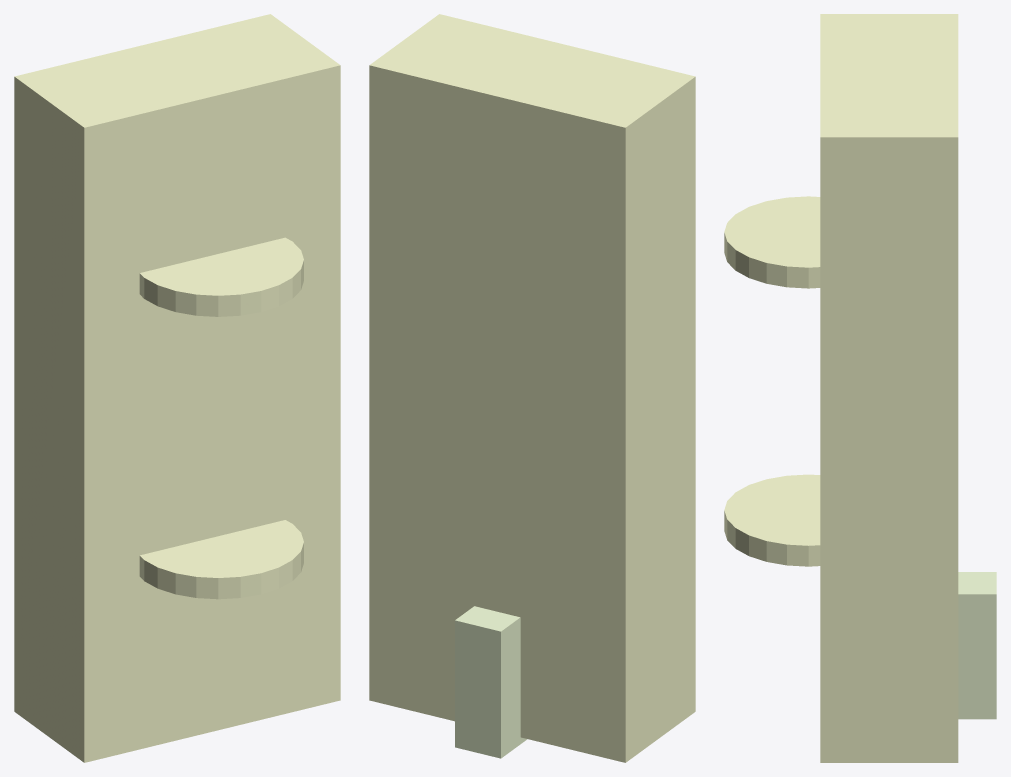
The model's file is signal_preemption_beacon_dual_lunar_vertical.glb.
3 views of the same model, side by side, from view 1: azimuth 30°, elevation 25°; view 2: azimuth 150°, elevation 25°; view 3: azimuth 270°, elevation 25° (orthographic).
Visible parts, largest first — view 1: housing, lens_preempt_right, lens_preempt_left; view 2: housing, bracket; view 3: housing, lens_preempt_left, lens_preempt_right, bracket.
Part boxes in pixels (<box>): housing: <box>14,14,340,762</box>; lens_preempt_right: <box>139,520,303,599</box>; lens_preempt_left: <box>139,237,303,316</box>; housing: <box>369,14,695,762</box>; bracket: <box>455,606,527,758</box>; housing: <box>820,14,958,762</box>; lens_preempt_left: <box>724,196,820,288</box>; lens_preempt_right: <box>724,474,820,566</box>; bracket: <box>958,572,996,719</box>.
Size of the model in its own units: 0.38 by 0.91 by 0.355.
